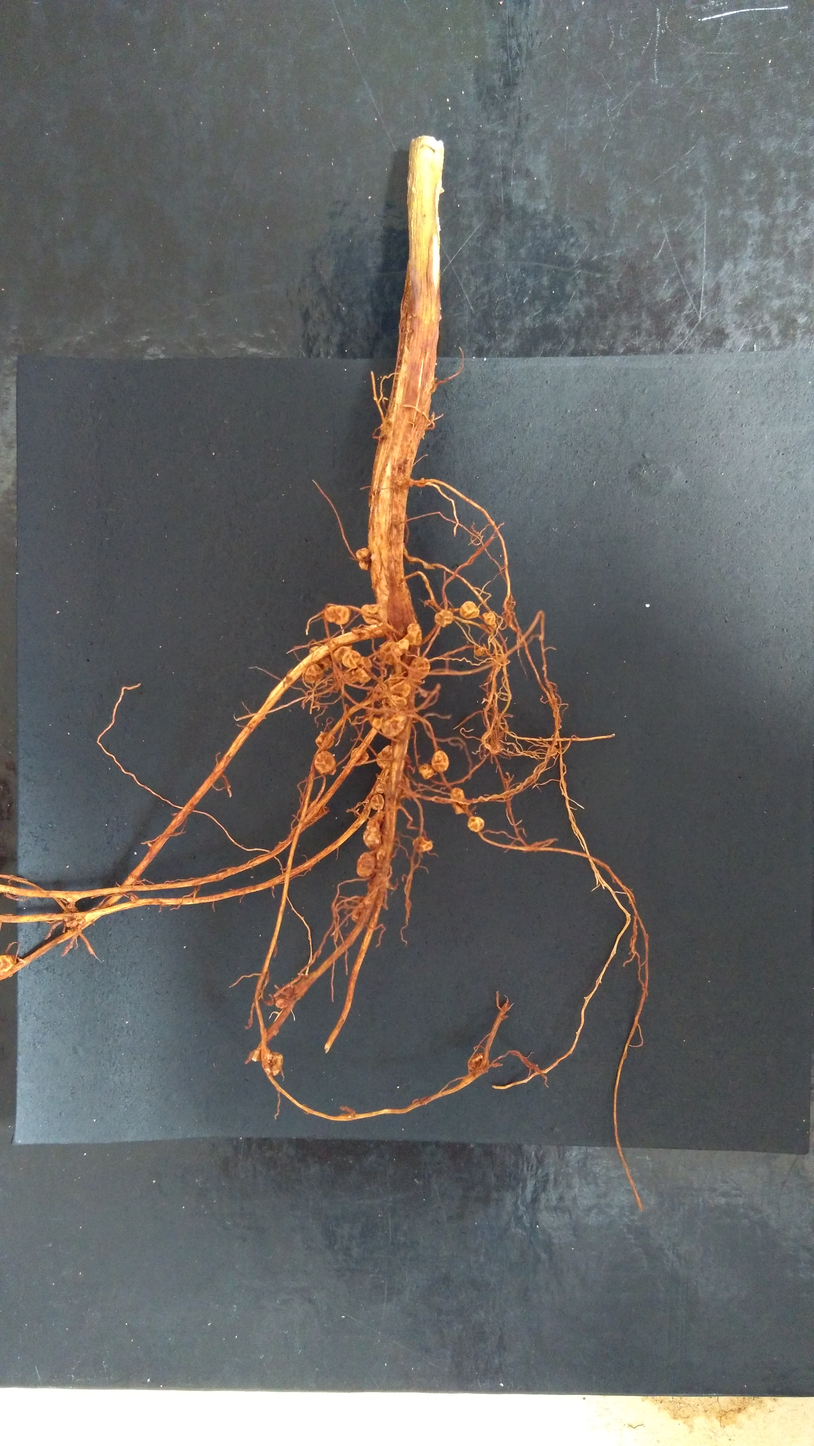nodule: (374, 774, 410, 798), (380, 709, 407, 737), (362, 818, 383, 851), (275, 984, 300, 1011), (313, 749, 337, 777), (408, 655, 433, 681), (324, 604, 352, 627), (354, 851, 377, 879), (350, 896, 373, 924), (449, 786, 469, 816), (308, 644, 331, 670), (264, 1050, 284, 1078), (466, 1052, 490, 1075), (0, 948, 16, 982), (379, 638, 400, 663), (374, 744, 393, 771), (61, 905, 82, 929), (348, 746, 370, 768), (303, 662, 324, 685), (360, 602, 380, 626), (432, 608, 454, 629), (331, 642, 353, 663), (411, 835, 435, 854), (341, 649, 362, 670), (390, 677, 411, 698), (458, 600, 480, 620), (431, 750, 450, 773), (314, 730, 335, 750), (390, 635, 409, 657), (406, 622, 422, 647), (467, 815, 486, 833), (353, 667, 372, 684), (369, 793, 386, 812), (418, 763, 434, 780), (355, 547, 371, 563), (389, 693, 408, 706), (482, 611, 496, 627), (359, 655, 372, 671), (370, 716, 383, 730), (472, 646, 486, 658), (358, 560, 370, 572), (129, 893, 140, 904)
